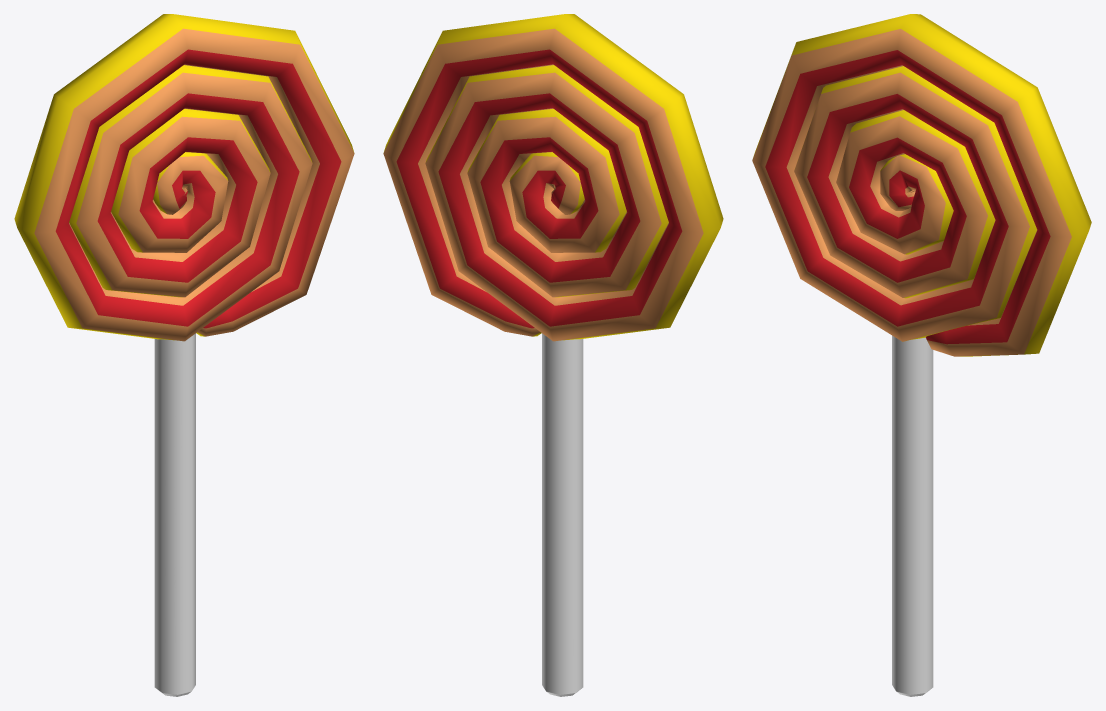
The model's file is Candy_2.fbx.
3 views of the same model, side by side, from view 1: azimuth 30°, elevation 25°; view 2: azimuth 150°, elevation 25°; view 3: azimuth 330°, elevation 25° (orthographic).
Visible parts, largest first — view 1: Candy_2; view 2: Candy_2; view 3: Candy_2.
Boxes of the visible parts, left/top/right/bottom form: Candy_2: left=14, top=14, right=354, bottom=696; Candy_2: left=383, top=14, right=723, bottom=696; Candy_2: left=752, top=14, right=1091, bottom=696.
Bounding box in the file's own units: 1.76 × 3.41 × 0.2571.
